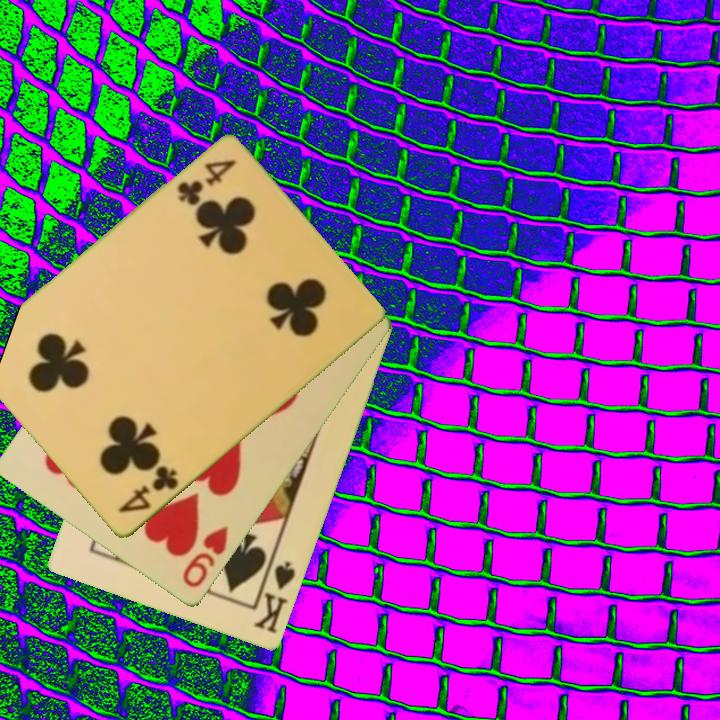4c: (114, 462, 182, 517), (173, 156, 239, 209)
9h: (179, 523, 231, 592)
Ks: (250, 553, 299, 637)
